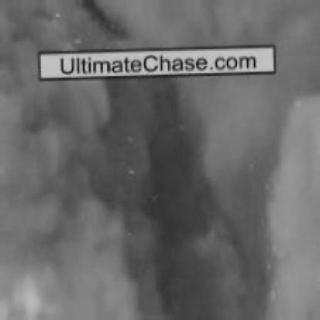Smoke: (20, 11, 294, 303)
